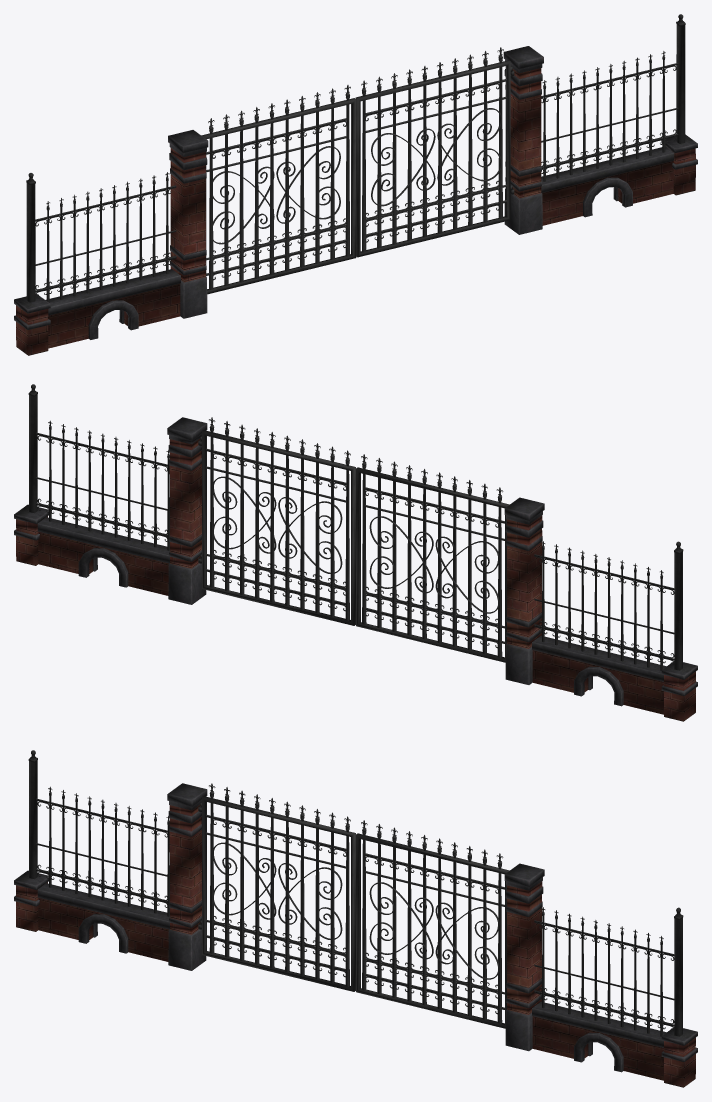
Rendered from victorian_fence_c.glb.
3 views of the same model, one above another, from view 1: azimuth 30°, elevation 25°; view 2: azimuth 150°, elevation 25°; view 3: azimuth 330°, elevation 25° (orthographic).
Visible parts, largest first — view 1: Fence_01_Gate_LOD0_Fence_01_Gate_0, Fence_01_Canal_LOD0_Fence_01_Main_0, Fence_01_Pillar_LOD0_Fence_01_End_0; view 2: Fence_01_Gate_LOD0_Fence_01_Gate_0, Fence_01_Canal_LOD0_Fence_01_Main_0, Fence_01_Pillar_LOD0_Fence_01_End_0; view 3: Fence_01_Gate_LOD0_Fence_01_Gate_0, Fence_01_Canal_LOD0_Fence_01_Main_0, Fence_01_Pillar_LOD0_Fence_01_End_0.
Part boxes in pixels (<box>): Fence_01_Gate_LOD0_Fence_01_Gate_0: <box>201,47,514,294</box>; Fence_01_Canal_LOD0_Fence_01_Main_0: <box>35,51,678,348</box>; Fence_01_Pillar_LOD0_Fence_01_End_0: <box>14,14,697,355</box>; Fence_01_Gate_LOD0_Fence_01_Gate_0: <box>198,417,509,662</box>; Fence_01_Canal_LOD0_Fence_01_Main_0: <box>36,420,674,714</box>; Fence_01_Pillar_LOD0_Fence_01_End_0: <box>14,384,697,721</box>; Fence_01_Gate_LOD0_Fence_01_Gate_0: <box>198,783,509,1028</box>; Fence_01_Canal_LOD0_Fence_01_Main_0: <box>36,786,674,1080</box>; Fence_01_Pillar_LOD0_Fence_01_End_0: <box>14,750,697,1087</box>.
Bounding box in the file's own units: 11.18 × 2.96 × 0.4953.
Materials: 3 (3 with a texture image).
